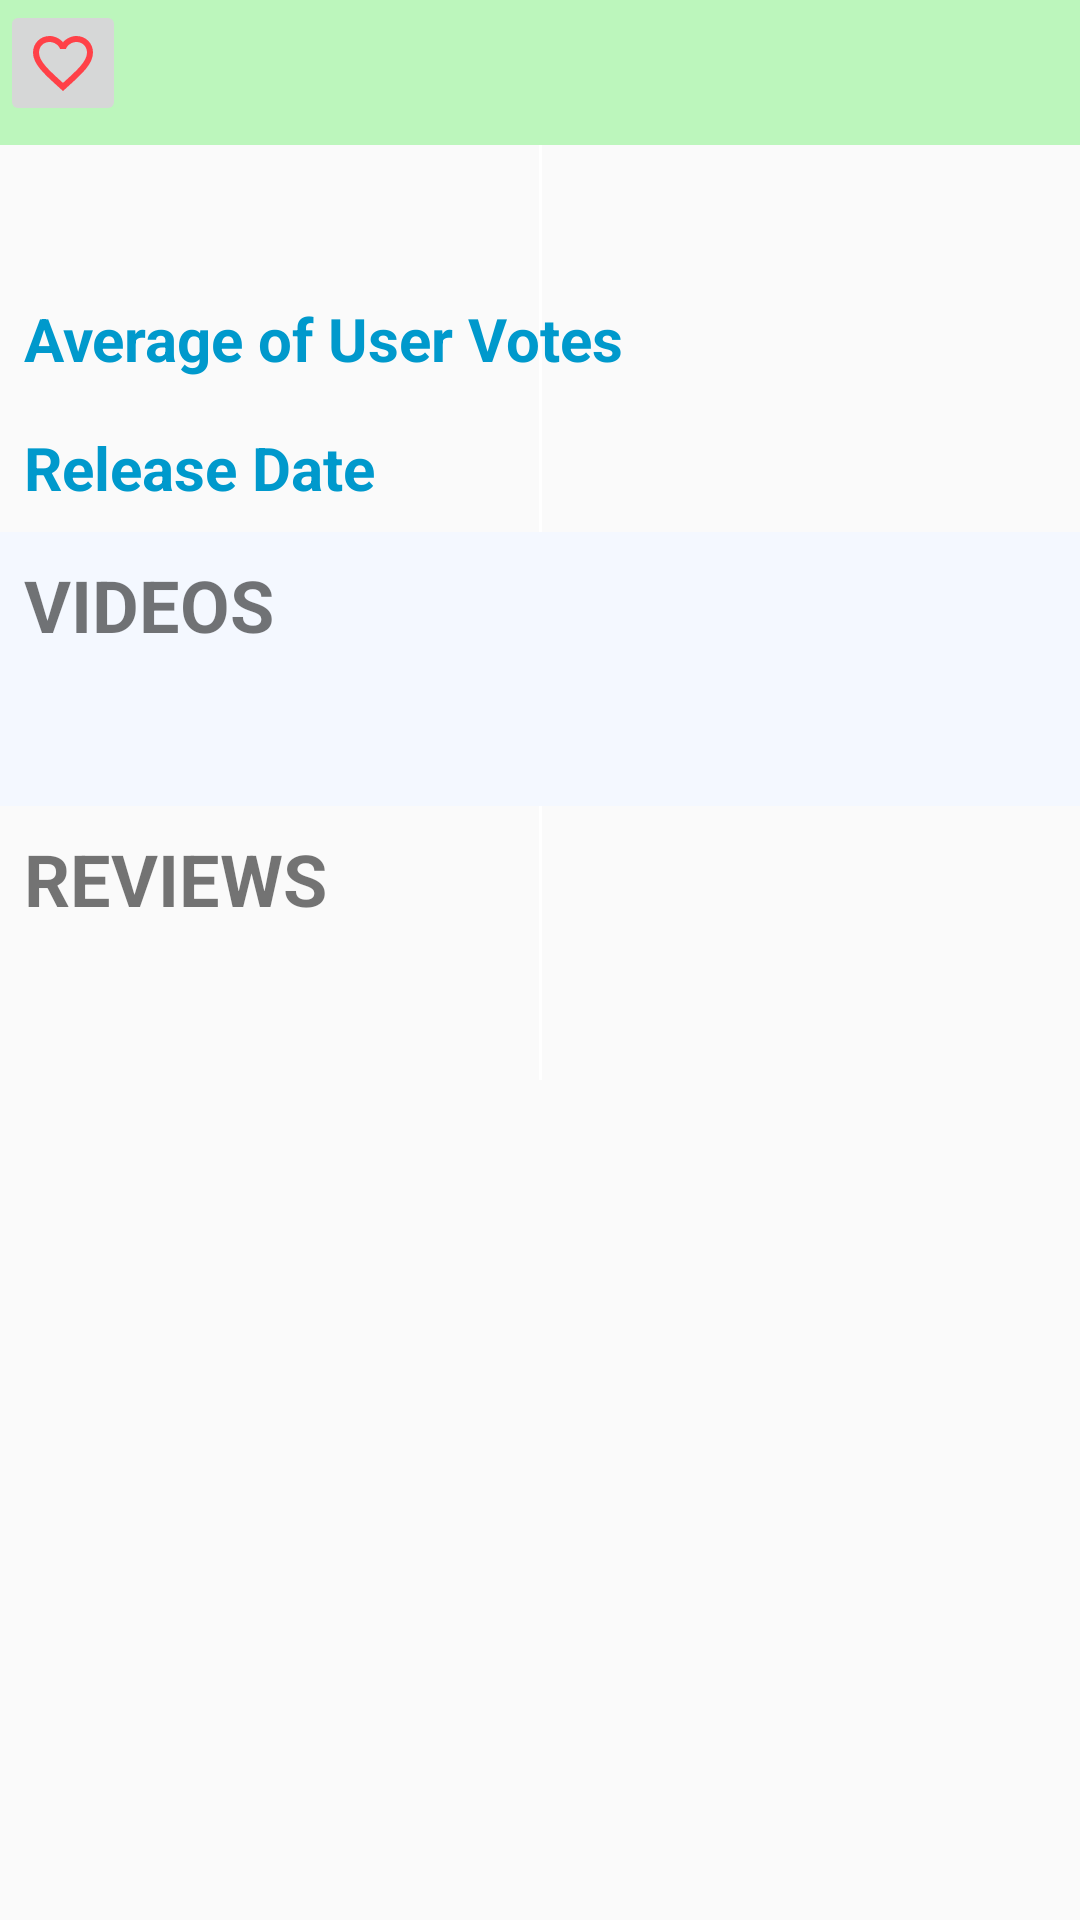

Screen size 1080w x 1920h. Icon name, then its center in pixels as [x,y]:
not favorite: [63,63]
